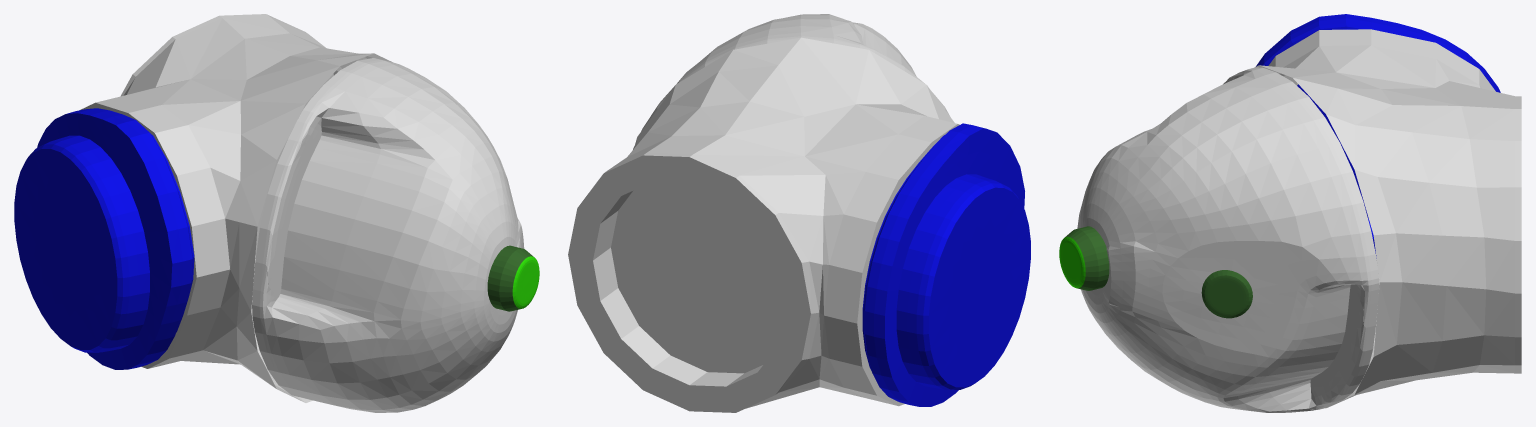
Rendered from b_axis.dae.
3 views of the same model, side by side, from view 1: azimuth 30°, elevation 25°; view 2: azimuth 150°, elevation 25°; view 3: azimuth 270°, elevation 25° (orthographic).
Visible parts, largest first — view 1: Circle.018, Plane.007, Circle.016; view 2: Plane.007, Circle.016, Circle.018; view 3: Circle.018, Plane.007, Circle.016.
Boxes of the visible parts, x1,y1,x2,y2 form: Circle.018: (252, 58, 539, 412); Plane.007: (80, 14, 392, 402); Circle.016: (14, 108, 194, 369); Plane.007: (568, 37, 959, 412); Circle.016: (862, 123, 1030, 406); Circle.018: (633, 14, 949, 149); Circle.018: (1059, 67, 1379, 412); Plane.007: (1254, 29, 1521, 408); Circle.016: (1256, 14, 1500, 258).
Bounding box in the file's own units: 0.1982 × 0.2213 × 0.168.
